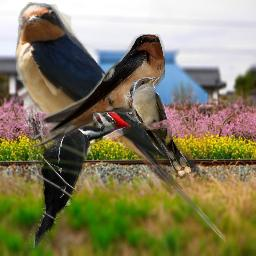Cuckoo: (132, 77, 191, 177)
Swallow: (14, 2, 228, 243), (27, 34, 165, 147)
Woodpecker: (29, 103, 131, 248)
